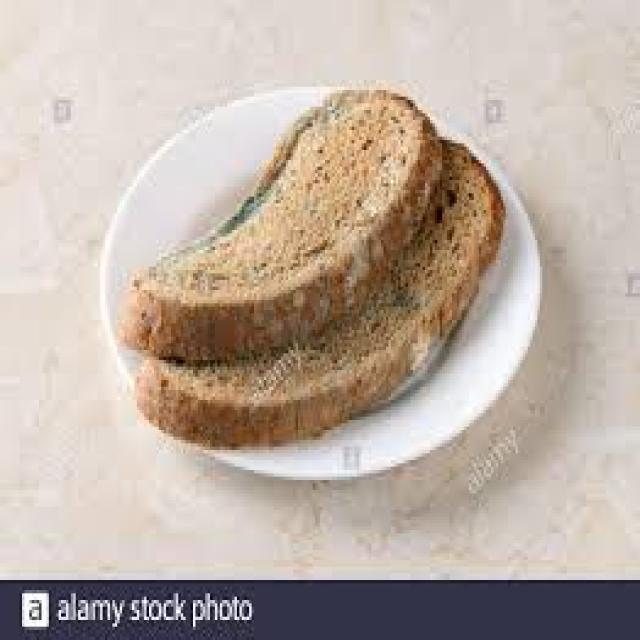food_waste: (117, 90, 503, 443)
